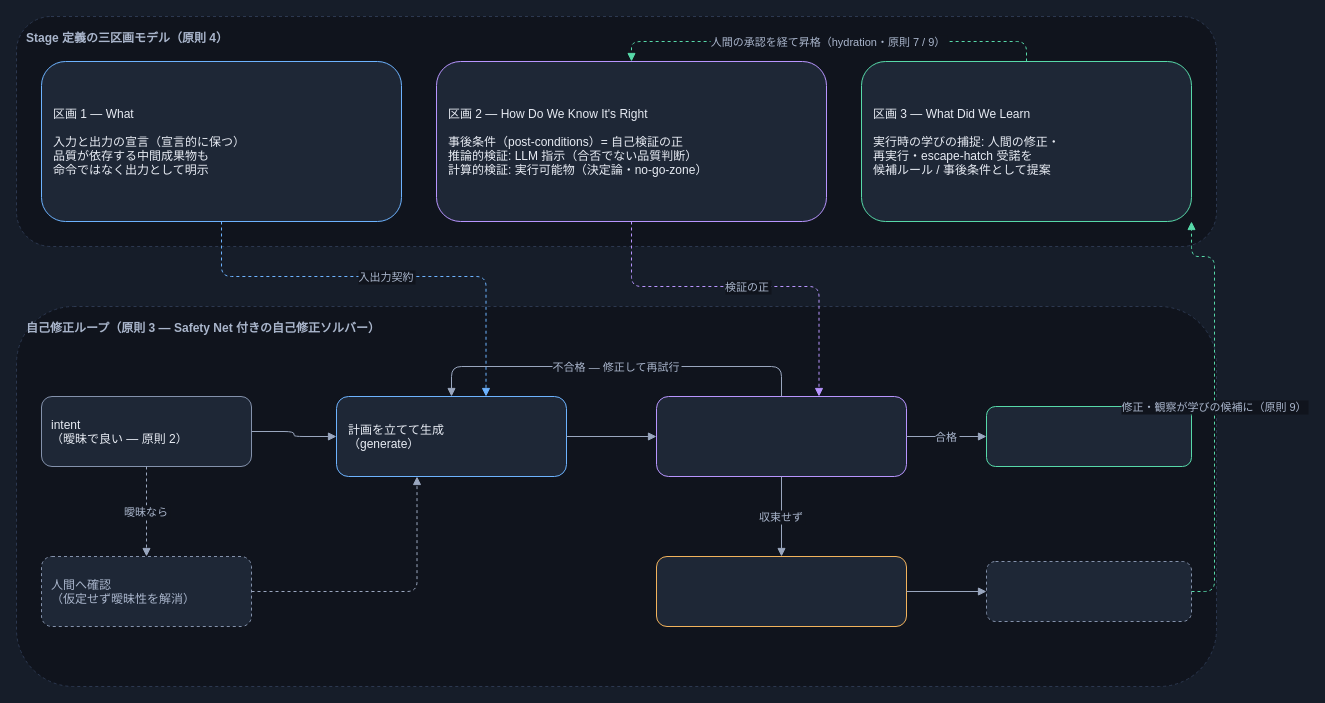
Some shapes in this 1325 by 703 pixel diagram are drawn without their labels. The shapes that lost their labels are listed below. From the top down, each one's centre as x and y in pixels, then its label:
At pixel 781 436: "自己検証 （区画 2 の事後条件と照合）".
At pixel 1089 436: "収束 — stage 完了".
At pixel 781 591: "停止条件に到達 （反復上限 / トークン予算）".
At pixel 1089 591: "人間へエスカレーション".
